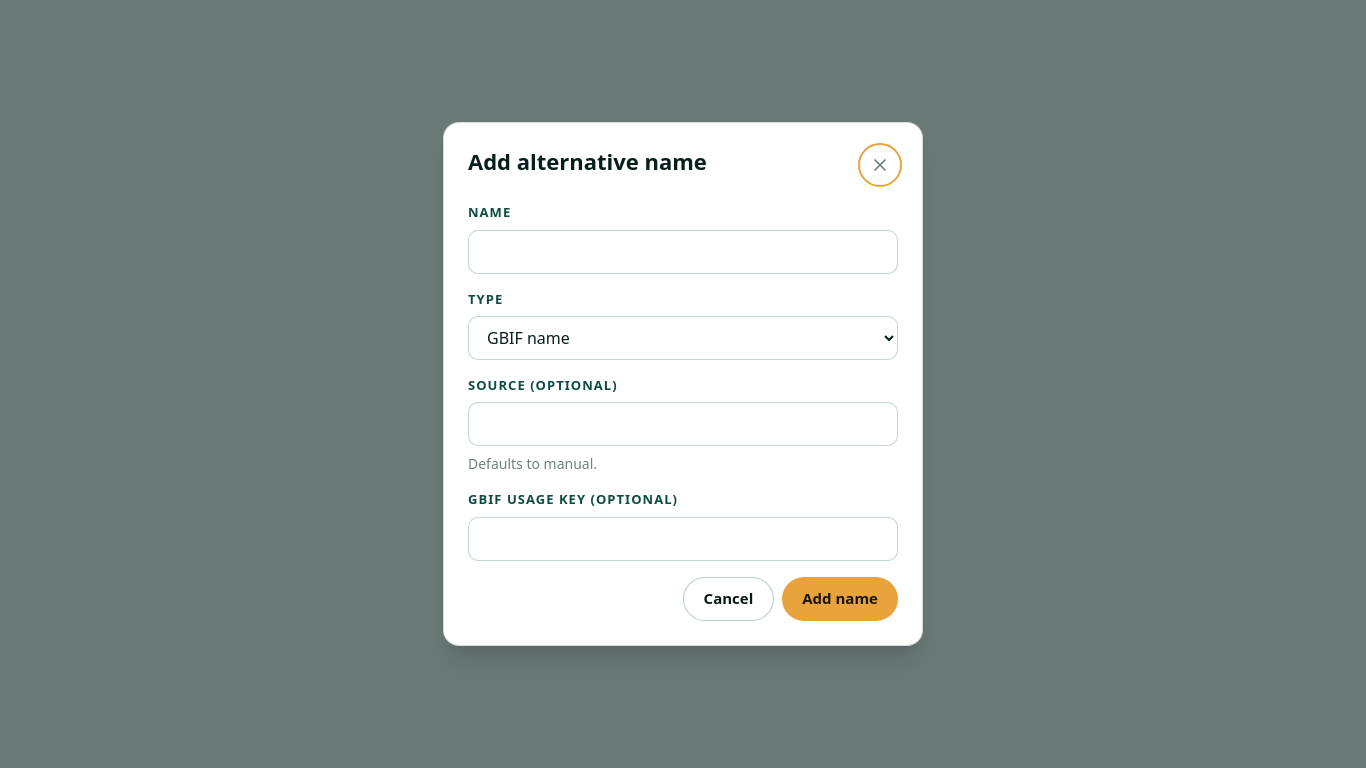
Test: RFC-60 R4, R9 AddNameDialog type, language and source › requires a language for a Common name
Select "Common name" in the dropdown labelled "Type" at (683, 338), box x1=468 y1=316 x2=898 y2=360
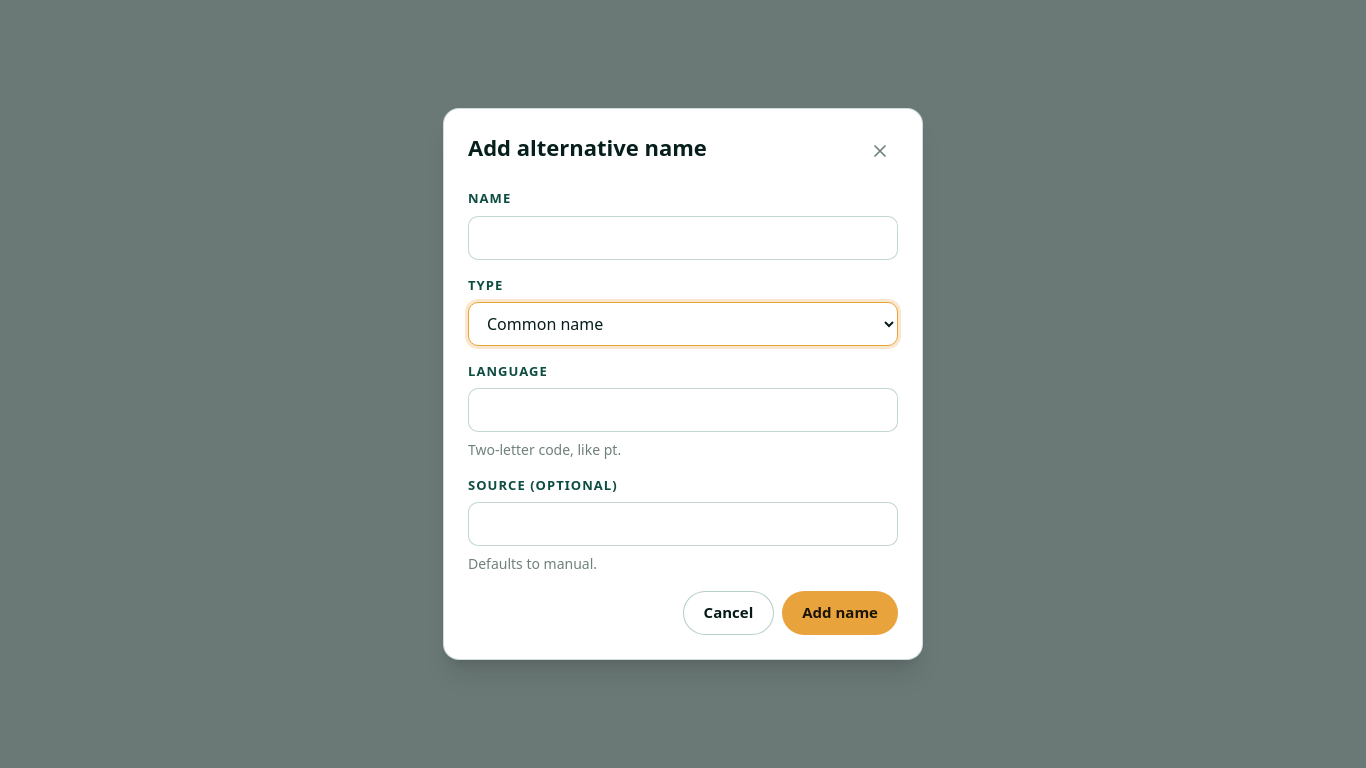
Type "Tento-carolina" into the field labelled "Name" at (683, 238), box x1=468 y1=216 x2=898 y2=260
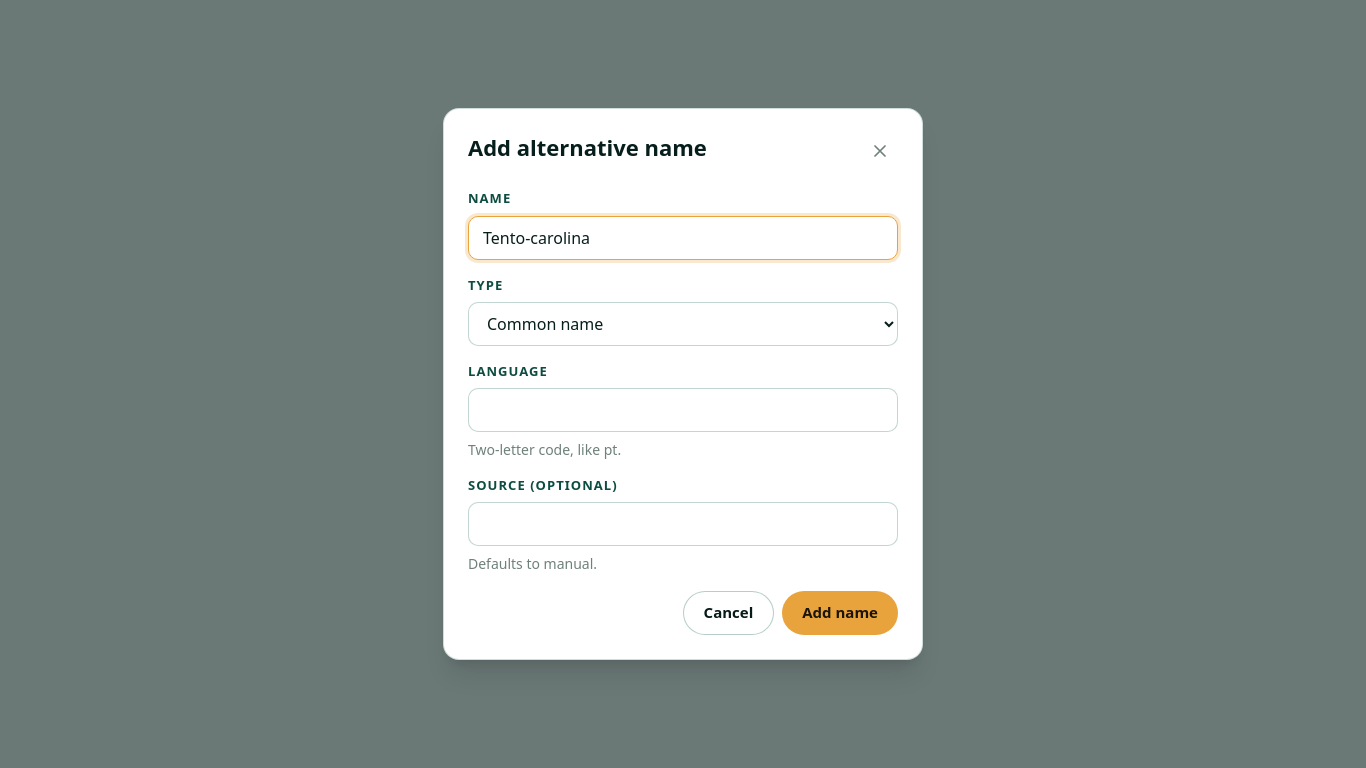
Click the button "Add name" at (840, 613), box x1=782 y1=591 x2=898 y2=635
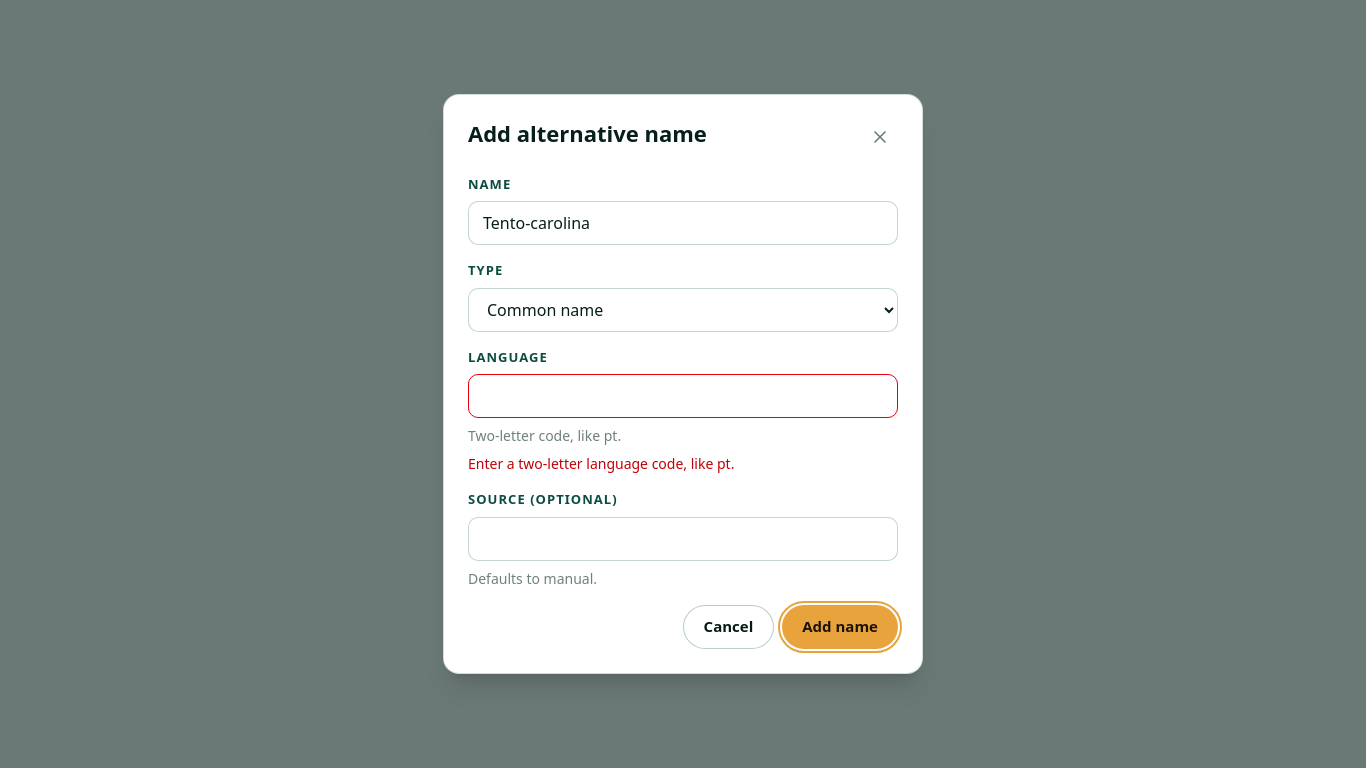
Expected: the text "Enter a two-letter language code, like pt." is shown, x1=468 y1=454 x2=734 y2=473
